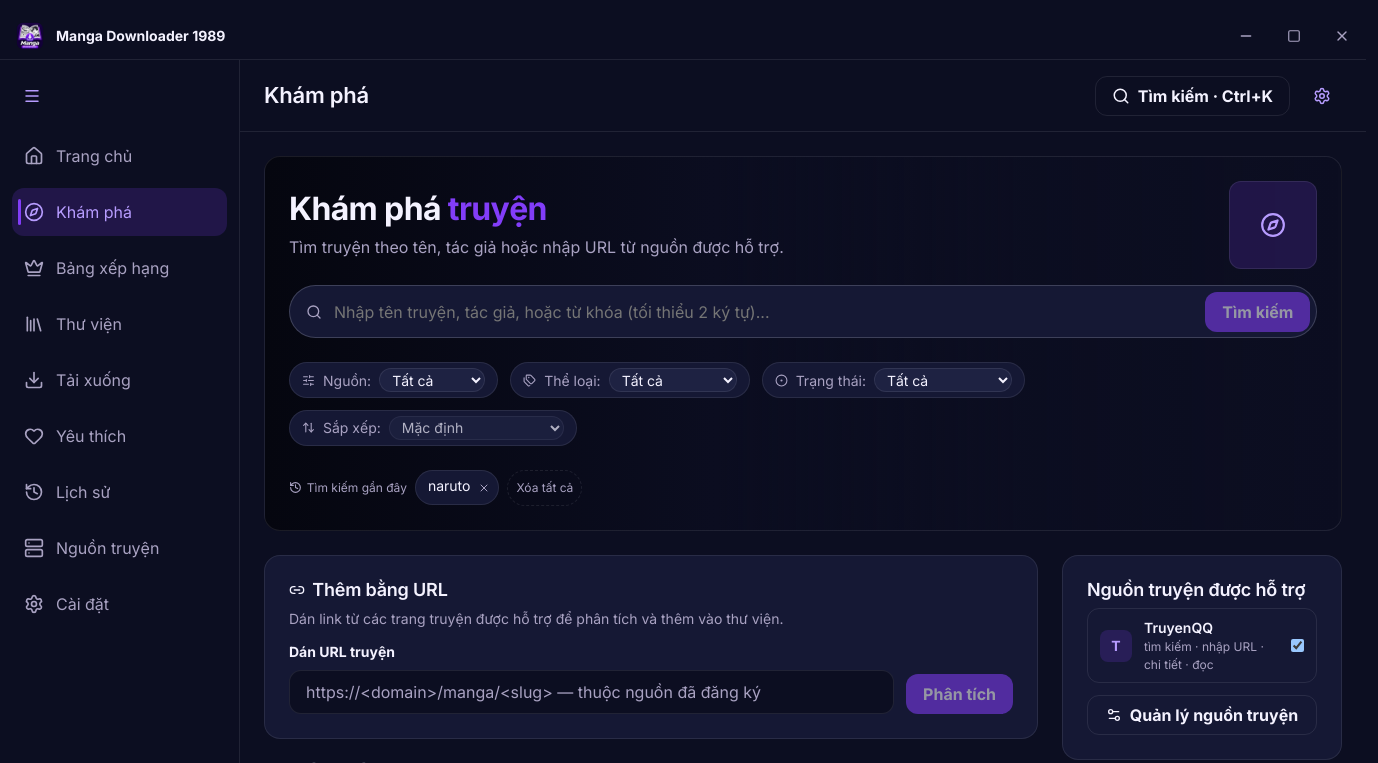
Test: Discover Phase 2 — recent searches › records a committed search and offers it back as a chip
This screenshot has width=1378, height=763.
Replace the text in the search field with placeholder "Nhập tên truyện" with "one piece" at (764, 312), box [334,292,1193,332]
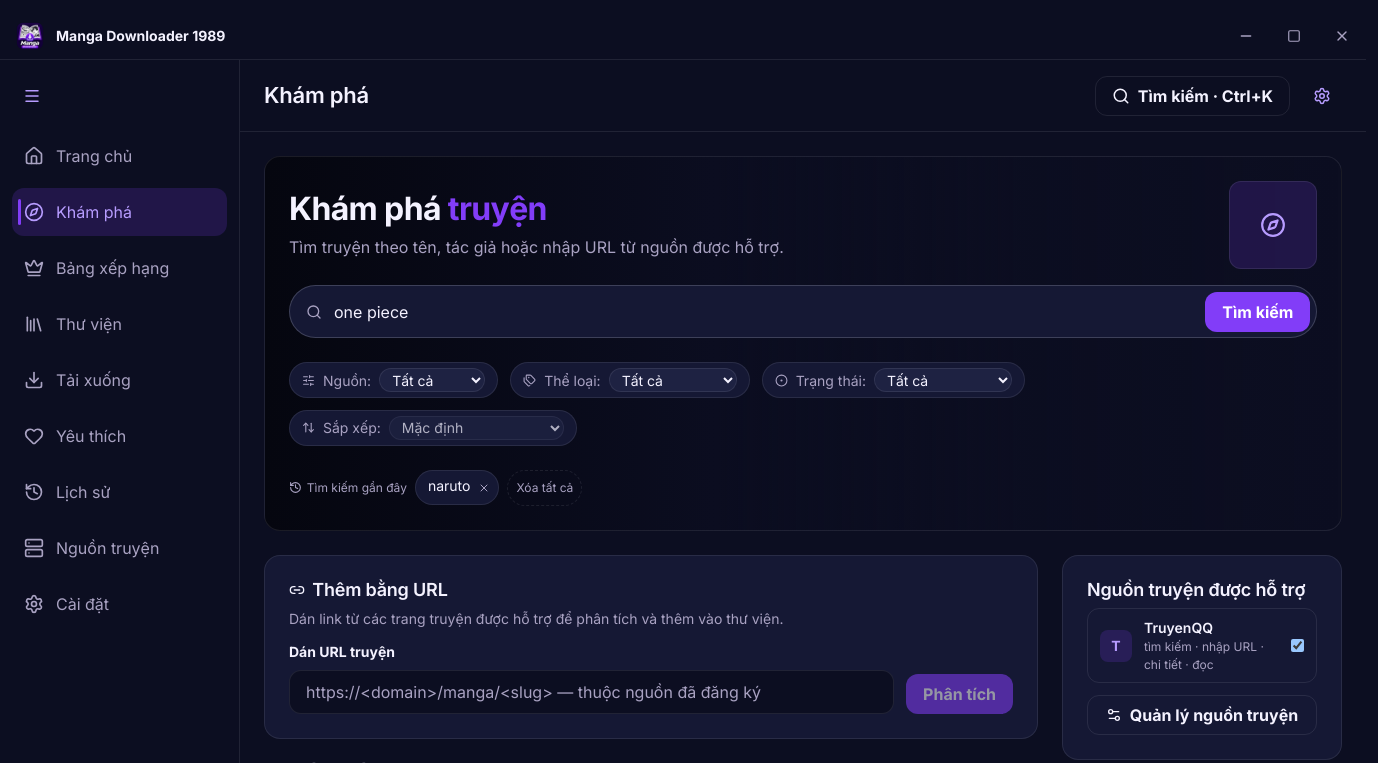
Click the button "Tìm kiếm" at (1258, 312), box [1205,292,1310,332]
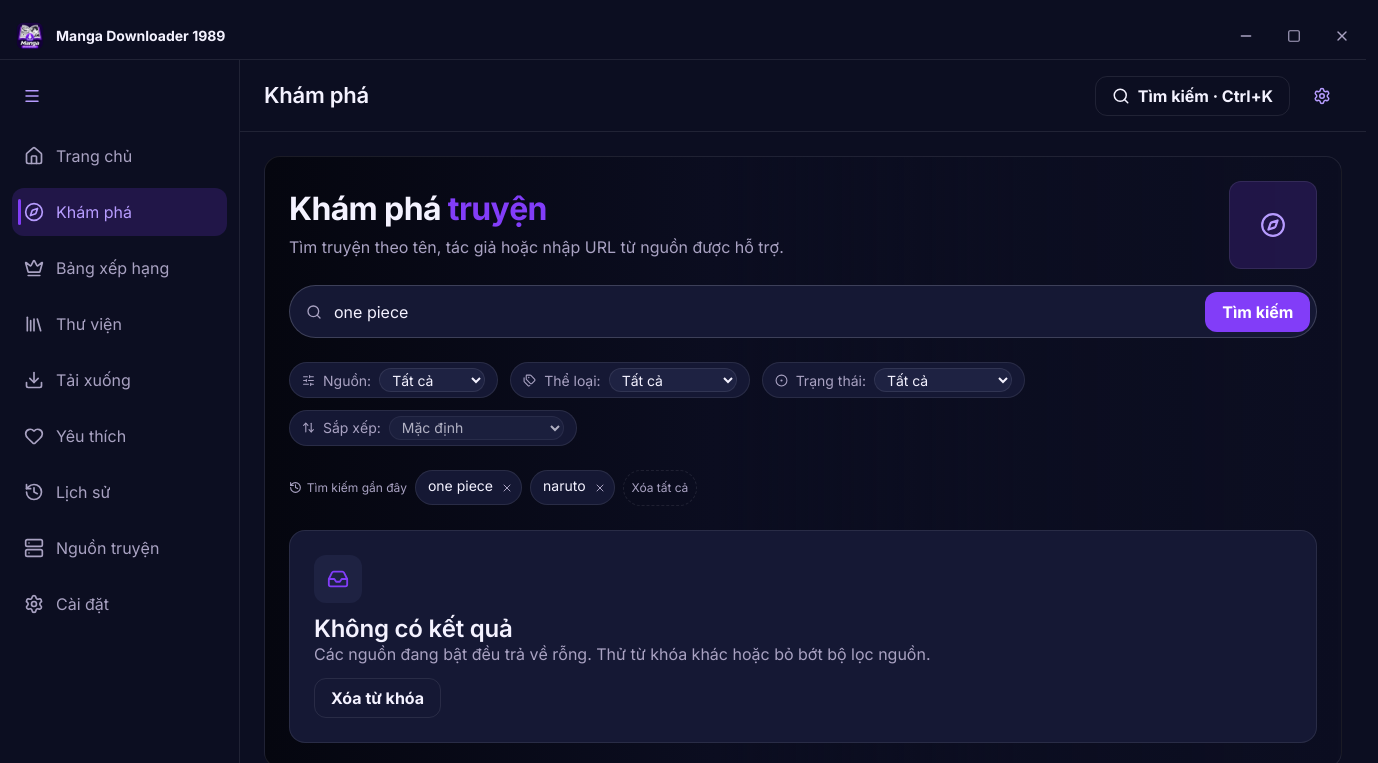
Expected: the button "one piece" is shown, [416,471,493,504]
